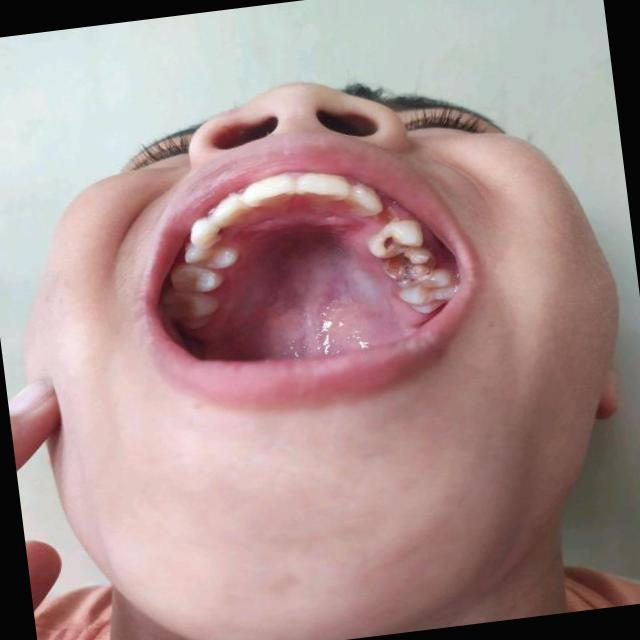caries: (399, 270, 458, 320), (367, 216, 422, 262), (380, 244, 435, 290)
